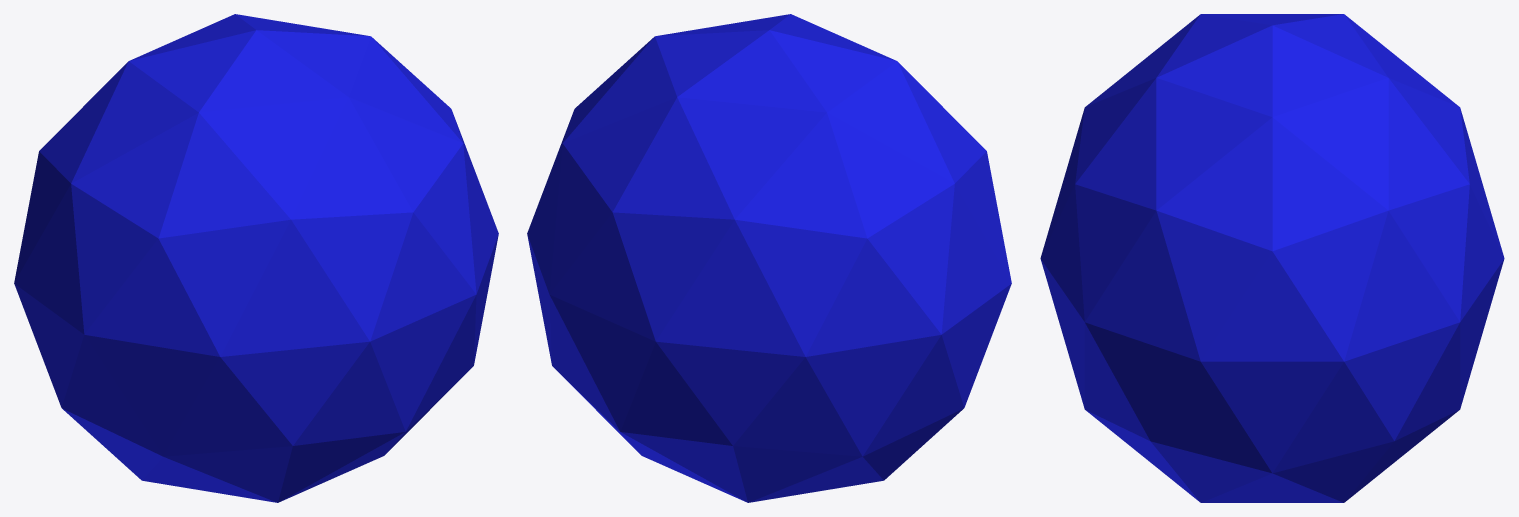
File: obsttask202.fbx
3 renders of one model, left to right at view 1: azimuth 30°, elevation 25°; view 2: azimuth 150°, elevation 25°; view 3: azimuth 270°, elevation 25°, orthographic. The views are drawn at different scales.
Visible parts, largest first — view 1: Icosphere; view 2: Icosphere; view 3: Icosphere.
Part boxes in pixels (bbox=[...]): Icosphere: bbox=[14, 14, 498, 502]; Icosphere: bbox=[527, 14, 1011, 502]; Icosphere: bbox=[1040, 14, 1504, 502].
Bounding box in the file's own units: 289 × 305 × 275.
